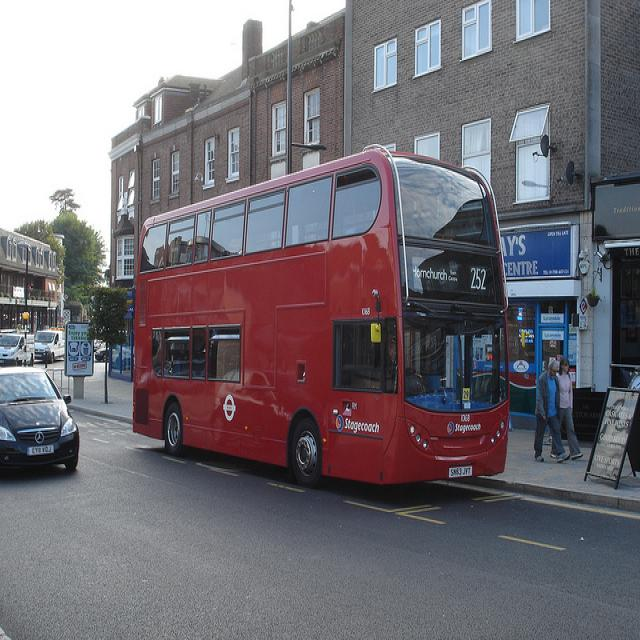Vehicle: (131, 143, 519, 491), (0, 366, 80, 479), (34, 329, 65, 362), (0, 334, 27, 368), (95, 341, 110, 363)
